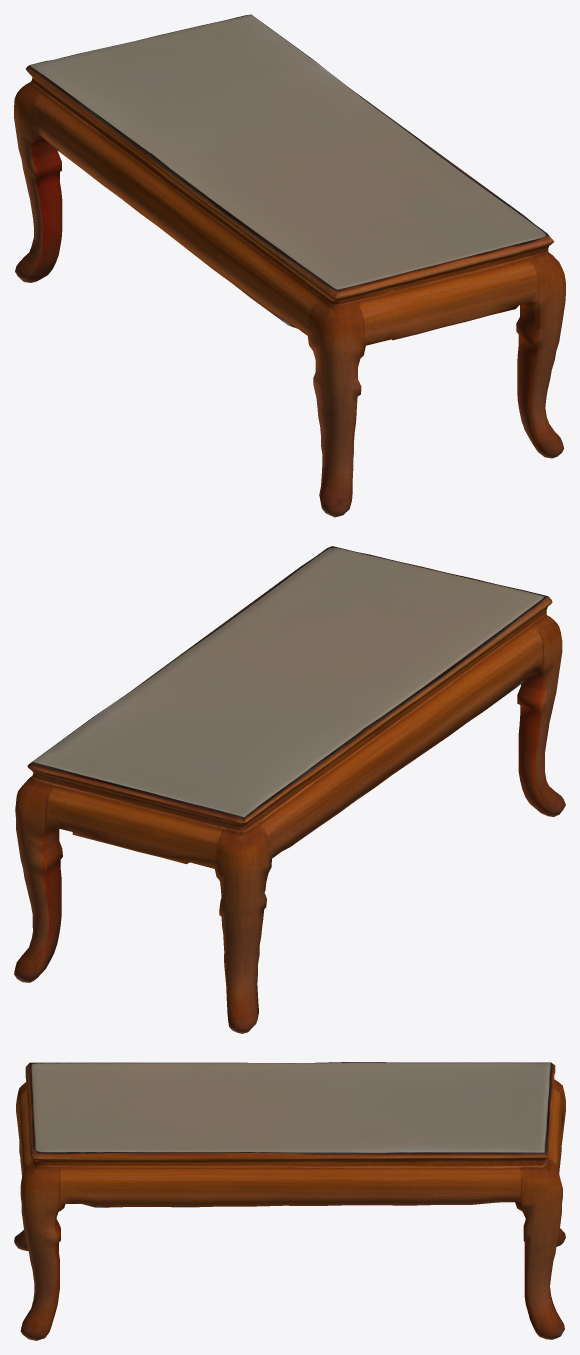
Rendered from KitchenTable.fbx.
The picture shows the model from 3 angles, top to bottom: view 1: azimuth 30°, elevation 25°; view 2: azimuth 150°, elevation 25°; view 3: azimuth 270°, elevation 25°; orthographic projection. The views are drawn at different scales.
Visible parts, largest first — view 1: KitchenTable; view 2: KitchenTable; view 3: KitchenTable.
Part boxes in pixels (box(x1,y1,x2,y2)): KitchenTable: box(14, 14, 565, 517); KitchenTable: box(14, 546, 565, 1033); KitchenTable: box(14, 1062, 565, 1340).
Size of the model in its own units: 93.4 by 81.08 by 214.
